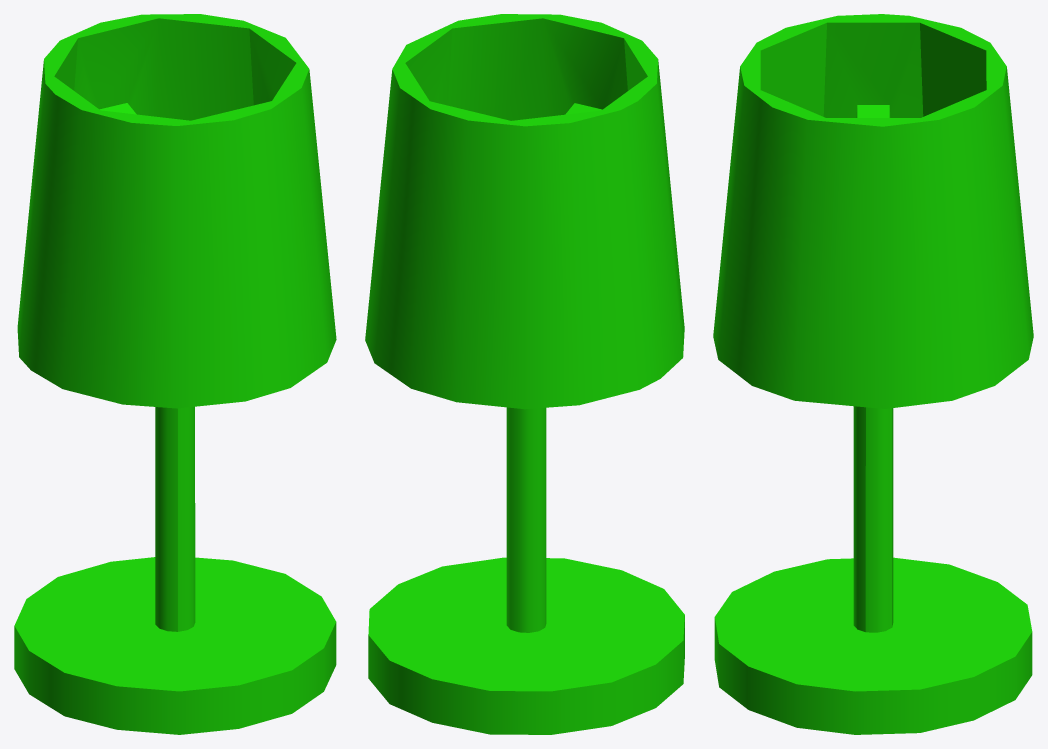
Rendered from lamp standing 1.fbx.
3 views of the same model, side by side, from view 1: azimuth 30°, elevation 25°; view 2: azimuth 150°, elevation 25°; view 3: azimuth 270°, elevation 25° (orthographic).
Parts seen in each view (by area): view 1: Cylinder.004; view 2: Cylinder.004; view 3: Cylinder.004.
Boxes of the visible parts, x1=… form: Cylinder.004: x1=14, y1=14, x2=336, y2=734; Cylinder.004: x1=365, y1=14, x2=684, y2=734; Cylinder.004: x1=713, y1=14, x2=1033, y2=734.
Bounding box in the file's own units: 0.2547 × 0.5236 × 0.2546.
